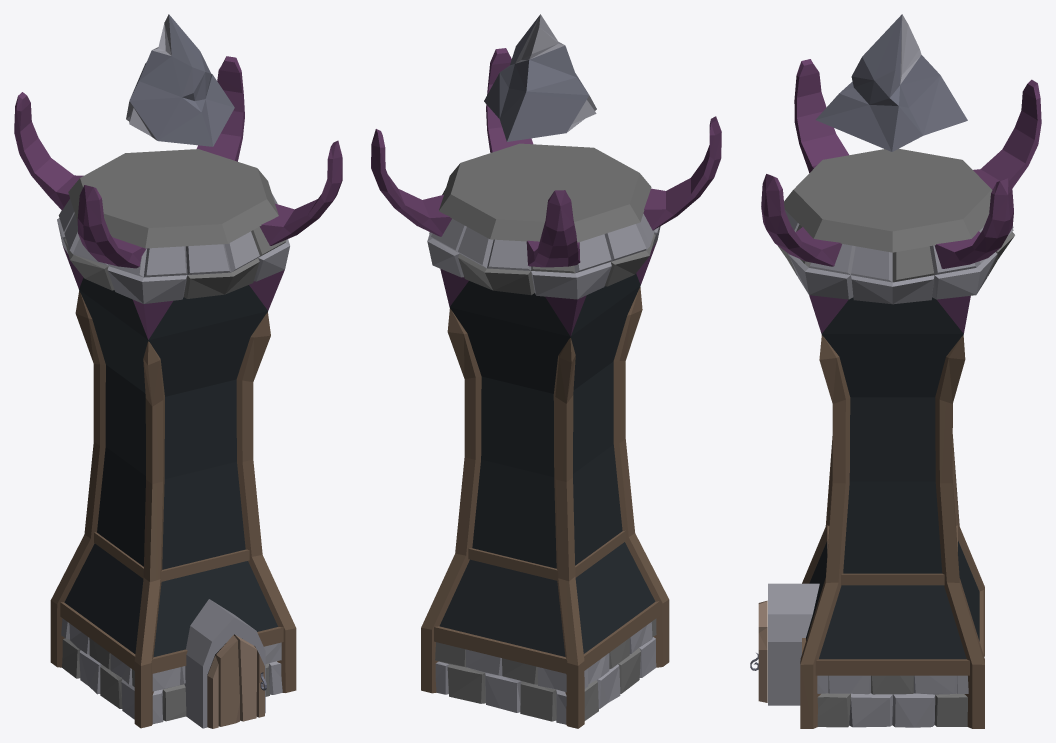
Rendered from Poison_LVL1.fbx.
3 views of the same model, side by side, from view 1: azimuth 30°, elevation 25°; view 2: azimuth 150°, elevation 25°; view 3: azimuth 270°, elevation 25° (orthographic). The views are drawn at different scales.
Parts seen in each view (by area): view 1: Poison_tower_LVL_1, Poison_tower_LVL_1.001; view 2: Poison_tower_LVL_1, Poison_tower_LVL_1.001; view 3: Poison_tower_LVL_1, Poison_tower_LVL_1.001.
Part boxes in pixels (box(x1,y1,x2,y2)): Poison_tower_LVL_1: box(14, 56, 342, 728); Poison_tower_LVL_1.001: box(126, 14, 234, 146); Poison_tower_LVL_1: box(371, 48, 721, 728); Poison_tower_LVL_1.001: box(484, 14, 596, 141); Poison_tower_LVL_1: box(750, 59, 1041, 728); Poison_tower_LVL_1.001: box(815, 14, 967, 151).
Size of the model in its own units: 610 by 1529 by 597.
